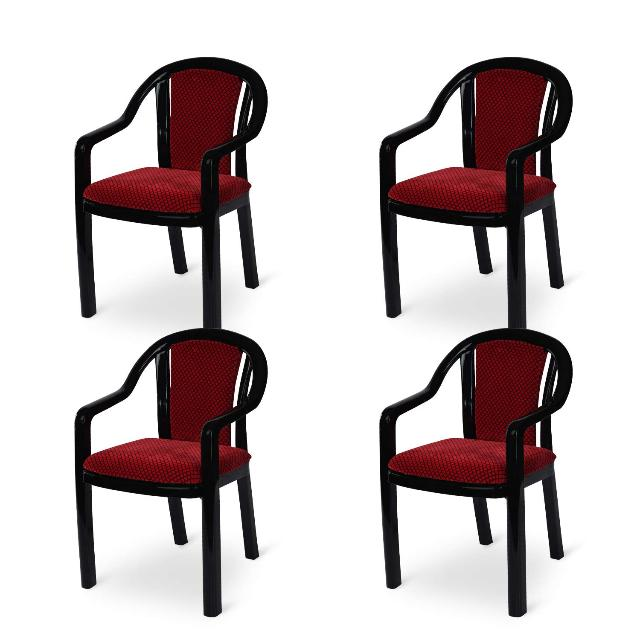obstacle: (318, 315, 586, 629), (19, 24, 309, 312), (26, 313, 290, 627), (348, 35, 626, 325)
